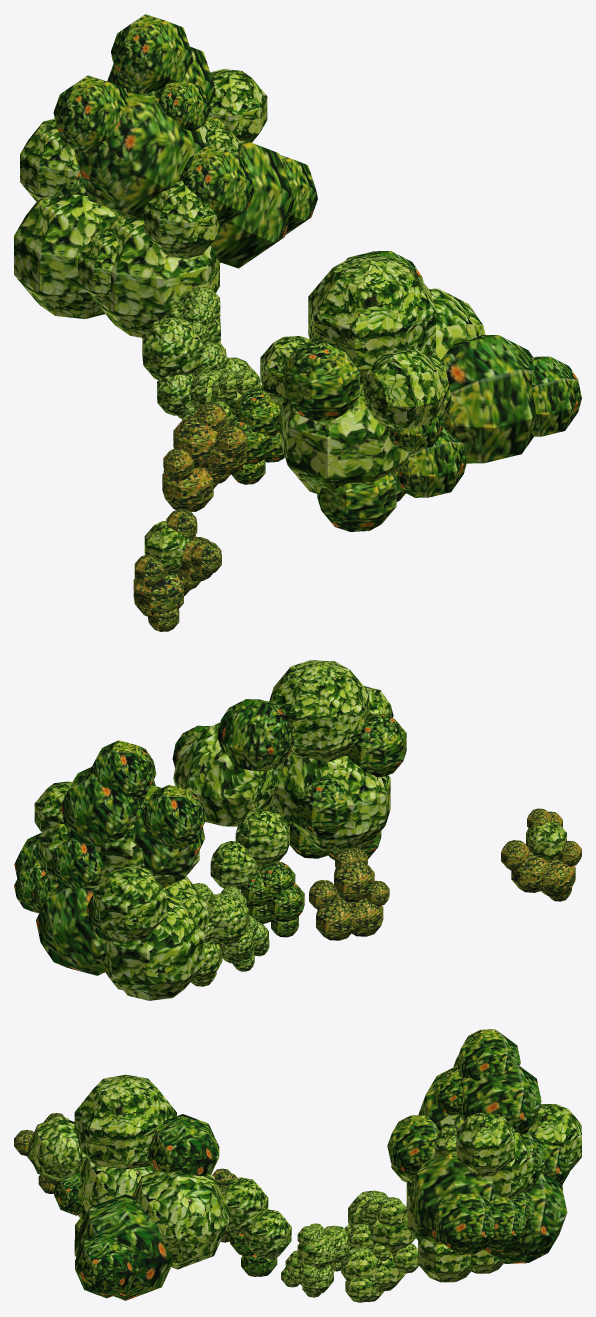
Rendered from Hojas_arbol.obj.
3 renders of one model, top to bottom at view 1: azimuth 30°, elevation 25°; view 2: azimuth 150°, elevation 25°; view 3: azimuth 270°, elevation 25°, orthographic. The views are drawn at different scales.
Parts seen in each view (by area): view 1: Hojas_arbol:grouppasted__Hojas_arbol40, Hojas_arbol:pasted__Hojas_arbol41group, Hojas_arbol:grouppasted__polySurface113, Hojas_arbol:grouppasted__polySurface121, Hojas_arbol:grouppasted__polySurface106, Hojas_arbol:grouppasted__Hojas_arbol51, Hojas_arbol:grouppasted__polySurface126, Hojas_arbol:grouppasted__polySurface109, Hojas_arbol:grouppasted__polySurface105, Hojas_arbol:grouppasted__polySurface120, Hojas_arbol:grouppasted__polySurface124, Hojas_arbol:grouppasted__Hojas_arbol42 (+13 smaller); view 2: Hojas_arbol:grouppasted__Hojas_arbol40, Hojas_arbol:pasted__Hojas_arbol41group, Hojas_arbol:grouppasted__polySurface113, Hojas_arbol:grouppasted__polySurface122, Hojas_arbol:grouppasted__polySurface106, Hojas_arbol:grouppasted__polySurface123, Hojas_arbol:grouppasted__Hojas_arbol51, Hojas_arbol:grouppasted__polySurface109, Hojas_arbol:grouppasted__polySurface110, Hojas_arbol:grouppasted__Hojas_arbol50, Hojas_arbol:grouppasted__polySurface128, Hojas_arbol:grouppasted__Hojas_arbol44 (+16 smaller); view 3: Hojas_arbol:grouppasted__Hojas_arbol40, Hojas_arbol:pasted__Hojas_arbol41group, Hojas_arbol:grouppasted__polySurface113, Hojas_arbol:grouppasted__polySurface122, Hojas_arbol:grouppasted__Hojas_arbol51, Hojas_arbol:grouppasted__polySurface121, Hojas_arbol:grouppasted__polySurface123, Hojas_arbol:grouppasted__Hojas_arbol42, Hojas_arbol:grouppasted__polySurface120, Hojas_arbol:grouppasted__polySurface126, Hojas_arbol:grouppasted__polySurface128, Hojas_arbol:grouppasted__Hojas_arbol50 (+4 smaller).
Part boxes in pixels (x1,y1,x2,y2): Hojas_arbol:grouppasted__Hojas_arbol40: (53, 14, 317, 268); Hojas_arbol:pasted__Hojas_arbol41group: (14, 69, 267, 338); Hojas_arbol:grouppasted__polySurface113: (308, 255, 435, 384); Hojas_arbol:grouppasted__polySurface121: (441, 335, 536, 463); Hojas_arbol:grouppasted__polySurface106: (281, 394, 408, 494); Hojas_arbol:grouppasted__Hojas_arbol51: (142, 287, 252, 418); Hojas_arbol:grouppasted__polySurface126: (362, 350, 447, 428); Hojas_arbol:grouppasted__polySurface109: (283, 340, 359, 420); Hojas_arbol:grouppasted__polySurface105: (317, 473, 396, 531); Hojas_arbol:grouppasted__polySurface120: (528, 356, 581, 436); Hojas_arbol:grouppasted__polySurface124: (398, 427, 467, 497); Hojas_arbol:grouppasted__Hojas_arbol42: (182, 369, 262, 423); Hojas_arbol:grouppasted__Hojas_arbol40: (14, 740, 206, 975); Hojas_arbol:pasted__Hojas_arbol41group: (34, 781, 207, 1000); Hojas_arbol:grouppasted__polySurface113: (269, 660, 369, 761); Hojas_arbol:grouppasted__polySurface122: (173, 725, 275, 826); Hojas_arbol:grouppasted__polySurface106: (290, 758, 390, 851); Hojas_arbol:grouppasted__polySurface123: (217, 699, 291, 771); Hojas_arbol:grouppasted__Hojas_arbol51: (191, 883, 253, 986); Hojas_arbol:grouppasted__polySurface109: (347, 713, 406, 777); Hojas_arbol:grouppasted__polySurface110: (297, 778, 347, 836); Hojas_arbol:grouppasted__Hojas_arbol50: (235, 809, 289, 865); Hojas_arbol:grouppasted__polySurface128: (272, 753, 347, 815); Hojas_arbol:grouppasted__Hojas_arbol44: (210, 841, 256, 889); Hojas_arbol:grouppasted__Hojas_arbol40: (387, 1029, 572, 1263); Hojas_arbol:pasted__Hojas_arbol41group: (391, 1104, 581, 1282); Hojas_arbol:grouppasted__polySurface113: (74, 1074, 176, 1169); Hojas_arbol:grouppasted__polySurface122: (132, 1170, 228, 1269); Hojas_arbol:grouppasted__Hojas_arbol51: (341, 1190, 418, 1302); Hojas_arbol:grouppasted__polySurface121: (74, 1194, 172, 1300); Hojas_arbol:grouppasted__polySurface123: (146, 1114, 219, 1176); Hojas_arbol:grouppasted__Hojas_arbol42: (281, 1223, 351, 1297); Hojas_arbol:grouppasted__polySurface120: (75, 1232, 138, 1298); Hojas_arbol:grouppasted__polySurface126: (28, 1116, 87, 1181); Hojas_arbol:grouppasted__polySurface128: (78, 1158, 152, 1217); Hojas_arbol:grouppasted__Hojas_arbol50: (220, 1177, 268, 1233).
Size of the model in its own units: 15.68 by 11.31 by 20.92.
3 materials, 3 textured.
